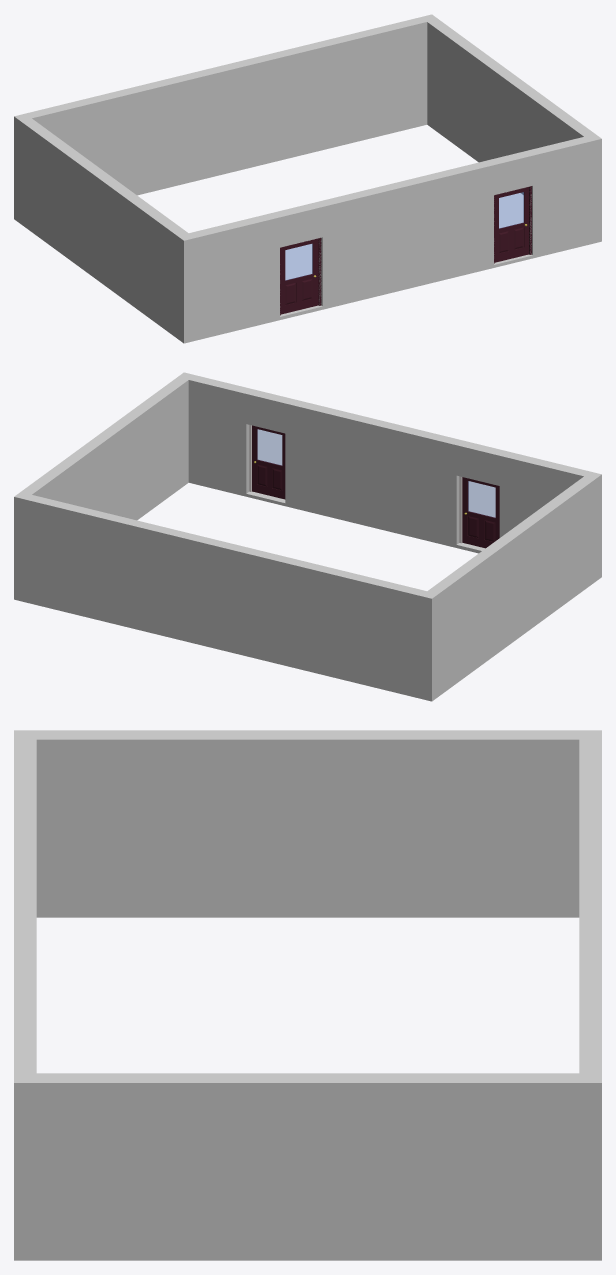
Rendered from twodoors.dae.
3 renders of one model, top to bottom at view 1: azimuth 30°, elevation 25°; view 2: azimuth 150°, elevation 25°; view 3: azimuth 270°, elevation 25°, orthographic. The views are drawn at different scales.
Parts seen in each view (by area): view 1: SketchUp (×2), group_4 (×2), group_3 (×2); view 2: SketchUp (×2), group_4 (×2), group_3 (×2); view 3: SketchUp (×2).
Boxes of the visible parts, left/top/right/bottom form: SketchUp (×2): left=14, top=14, right=601, bottom=343; group_4 (×2): left=280, top=187, right=528, bottom=314; group_3 (×2): left=285, top=192, right=523, bottom=280; SketchUp (×2): left=14, top=372, right=601, bottom=701; group_4 (×2): left=252, top=425, right=499, bottom=548; group_3 (×2): left=257, top=429, right=495, bottom=517; SketchUp (×2): left=14, top=730, right=601, bottom=1260.
Bounding box in the file's own units: 4152 × 2925 × 976.
